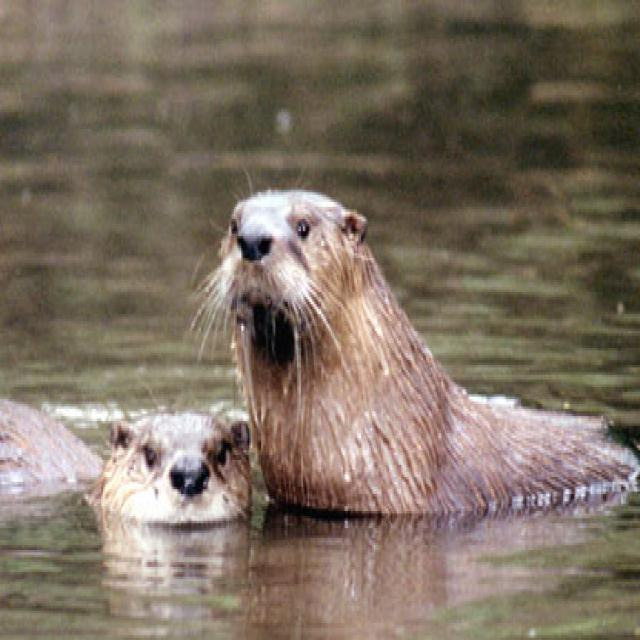otter: (225, 193, 640, 515), (1, 393, 254, 530)
